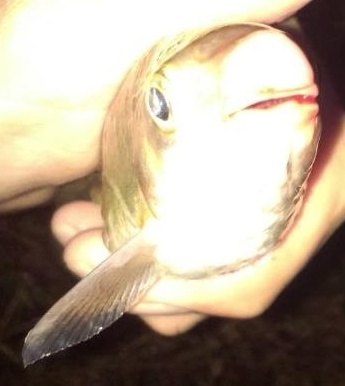Vimba vimba: (20, 20, 325, 370)
